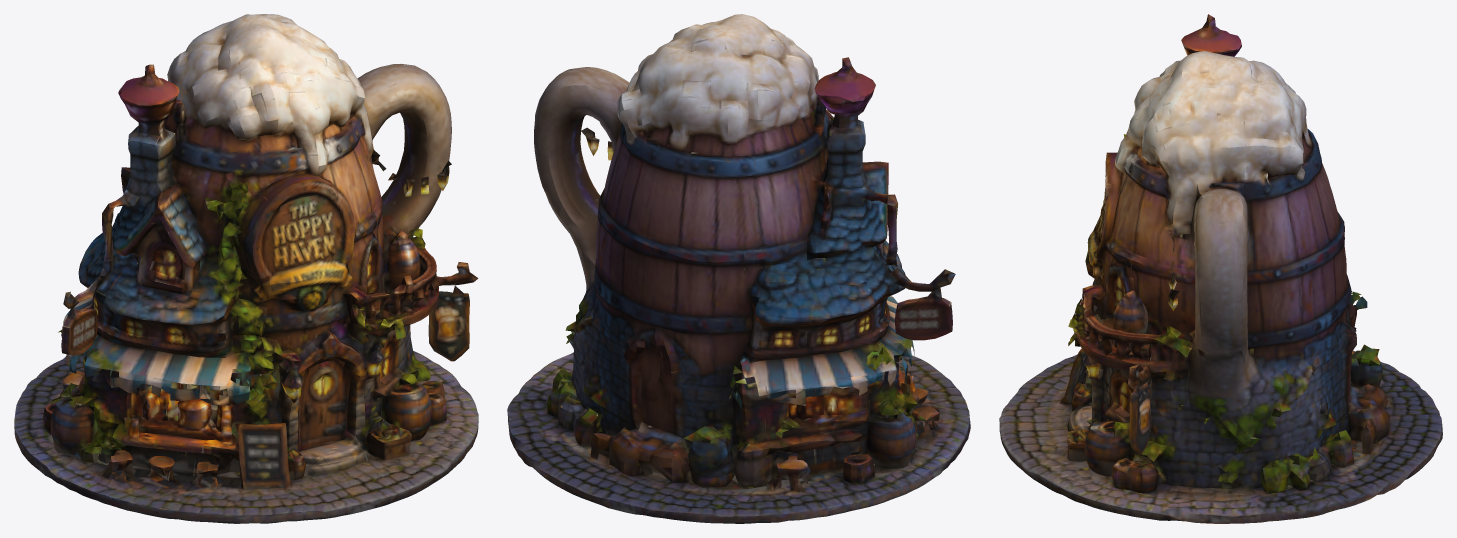
File: hoppy_heaven.glb
3 renders of one model, left to right at view 1: azimuth 30°, elevation 25°; view 2: azimuth 150°, elevation 25°; view 3: azimuth 270°, elevation 25°, orthographic. The views are drawn at different scales.
Visible parts, largest first — view 1: output; view 2: output; view 3: output.
Boxes of the visible parts, x1,y1,x2,y2 form: output: (14,14,478,523); output: (507,14,970,523); output: (999,14,1442,523).
Bounding box in the file's own units: 1.98 × 1.9 × 2.
1 material, 1 textured.
